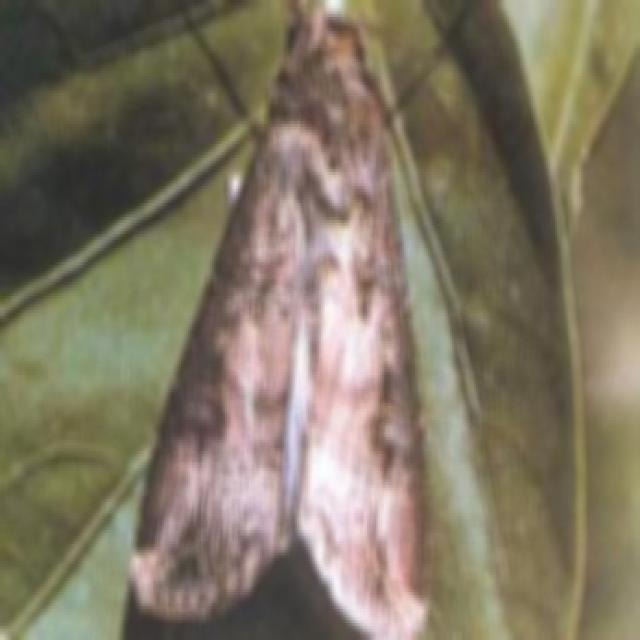black cutworm: (111, 4, 448, 640)
